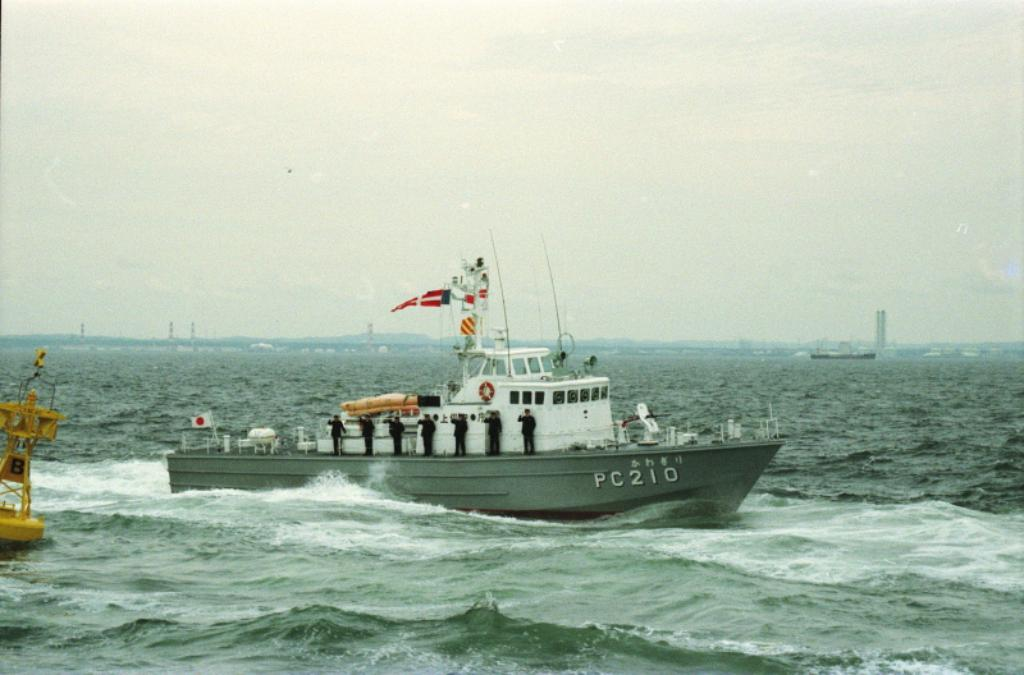Warship: (163, 240, 795, 532)
